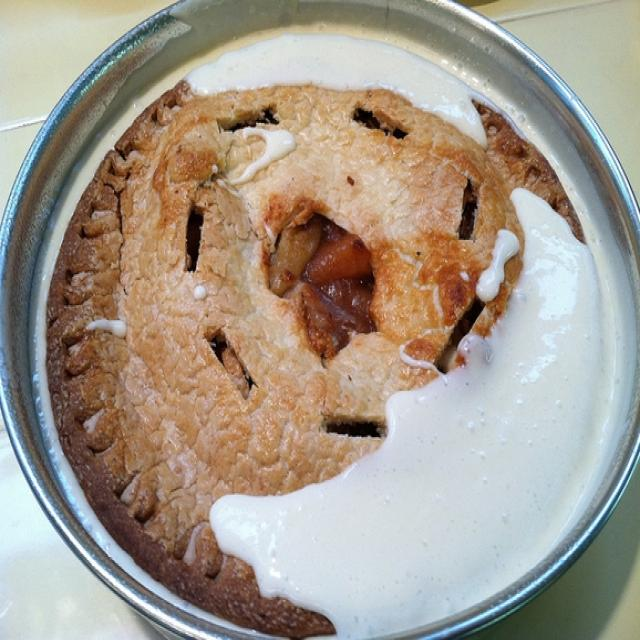炸货点心: (10, 8, 619, 628)
蛋糕甜品: (10, 8, 619, 628)
